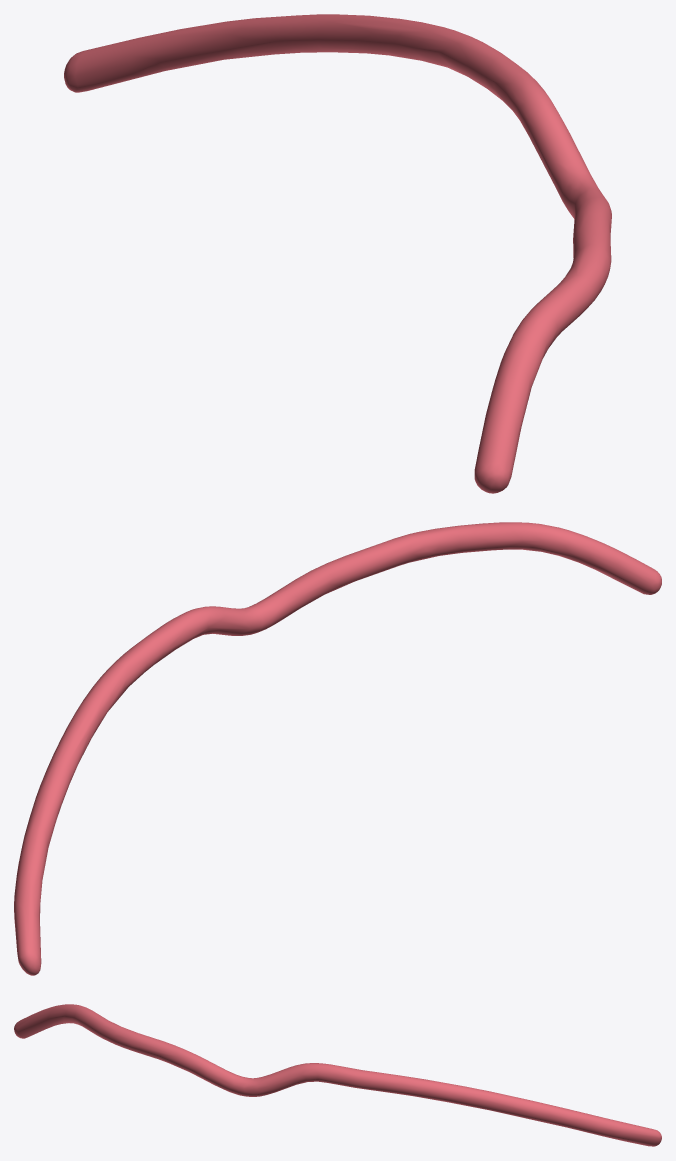
The model's file is fma44882_fj2059.glb.
The picture shows the model from 3 angles, top to bottom: view 1: azimuth 30°, elevation 25°; view 2: azimuth 150°, elevation 25°; view 3: azimuth 270°, elevation 25°; orthographic projection. The views are drawn at different scales.
Visible parts, largest first — view 1: FMA44882_FJ2059; view 2: FMA44882_FJ2059; view 3: FMA44882_FJ2059.
Part boxes in pixels (x1,y1,x2,y2): FMA44882_FJ2059: (64, 14, 611, 493); FMA44882_FJ2059: (14, 522, 661, 975); FMA44882_FJ2059: (14, 1004, 661, 1146).
Size of the model in its own units: 0.0261 by 0.0148 by 0.0767.
